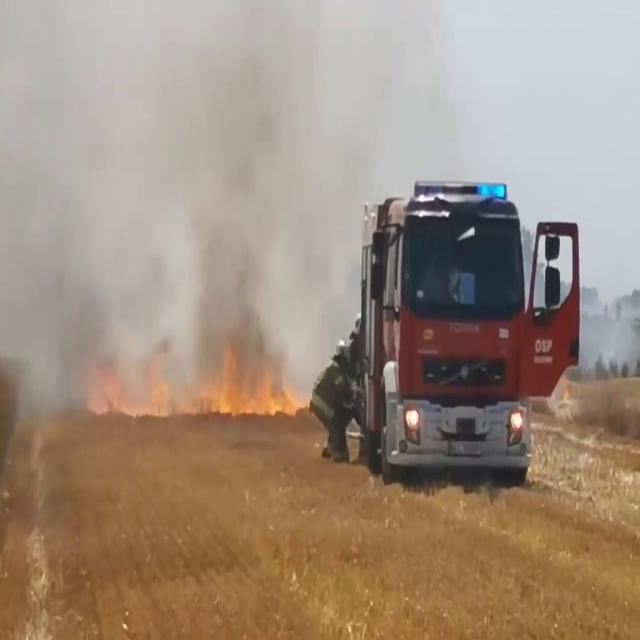Fire: (84, 353, 302, 423), (206, 376, 303, 422)
Smoke: (0, 0, 337, 412)
